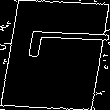L_E: (3, 37, 107, 73)
